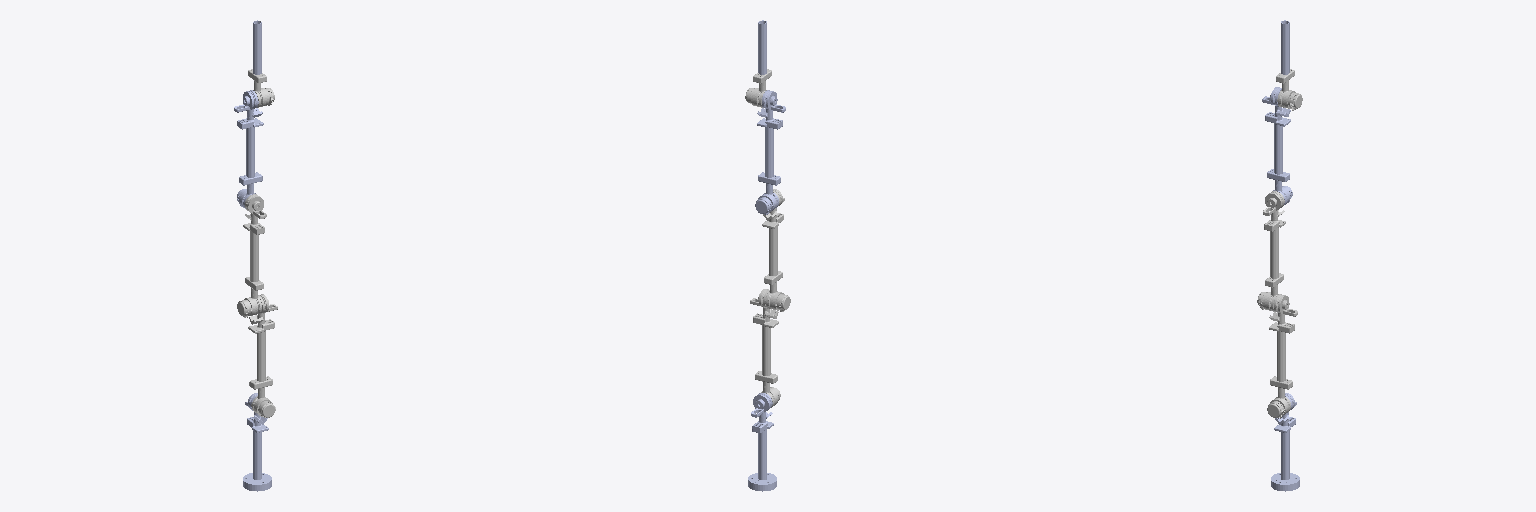
The robot description file, URDF, robot "out":
<robot
  name="out">
  <link
    name="base_link">
    <inertial>
      <origin
        xyz="3.79257737839755E-07 0.00049023117359942 0.0680911715687366"
        rpy="0 0 0" />
      <mass
        value="0.0392655917096764" />
      <inertia
        ixx="9.43403386038929E-05"
        ixy="-1.44006322333817E-10"
        ixz="-5.29248920453766E-10"
        iyy="9.35097580449183E-05"
        iyz="-7.06817719911823E-07"
        izz="4.67523611268744E-06" />
    </inertial>
    <visual>
      <origin
        xyz="0 0 0"
        rpy="0 0 0" />
      <geometry>
        <mesh
          filename="package://out/meshes/base_link.STL" />
      </geometry>
      <material
        name="">
        <color
          rgba="0.792156862745098 0.819607843137255 0.933333333333333 1" />
      </material>
    </visual>
    <collision>
      <origin
        xyz="0 0 0"
        rpy="0 0 0" />
      <geometry>
        <mesh
          filename="package://out/meshes/base_link.STL" />
      </geometry>
    </collision>
  </link>
  <link
    name="l1">
    <inertial>
      <origin
        xyz="-0.0775363356888588 0.000422756793977339 0.020971922442065"
        rpy="0 0 0" />
      <mass
        value="0.0481140132679658" />
      <inertia
        ixx="4.25376229510674E-06"
        ixy="9.89720298124224E-07"
        ixz="-3.669914865259E-06"
        iyy="0.000166336706495787"
        iyz="6.60230724636582E-09"
        izz="0.000167508840093891" />
    </inertial>
    <visual>
      <origin
        xyz="0 0 0"
        rpy="0 0 0" />
      <geometry>
        <mesh
          filename="package://out/meshes/l1.STL" />
      </geometry>
      <material
        name="">
        <color
          rgba="0.847058823529412 0.847058823529412 0.847058823529412 1" />
      </material>
    </visual>
    <collision>
      <origin
        xyz="0 0 0"
        rpy="0 0 0" />
      <geometry>
        <mesh
          filename="package://out/meshes/l1.STL" />
      </geometry>
    </collision>
  </link>
  <joint
    name="j1"
    type="fixed">
    <origin
      xyz="0 0.0094896 0.1243"
      rpy="1.5708 1.5708 0" />
    <parent
      link="base_link" />
    <child
      link="l1" />
    <axis
      xyz="0 0 1" />
  </joint>
  <link
    name="l2">
    <inertial>
      <origin
        xyz="-0.0775266421097146 0.000406987130815606 0.0209719226551794"
        rpy="0 0 0" />
      <mass
        value="0.048114013091611" />
      <inertia
        ixx="4.24702973489523E-06"
        ixy="1.0510679756802E-06"
        ixz="-3.67698119293869E-06"
        iyy="0.000166415860643582"
        iyz="1.81256684874285E-08"
        izz="0.000167581262863039" />
    </inertial>
    <visual>
      <origin
        xyz="0 0 0"
        rpy="0 0 0" />
      <geometry>
        <mesh
          filename="package://out/meshes/l2.STL" />
      </geometry>
      <material
        name="">
        <color
          rgba="0.847058823529412 0.847058823529412 0.847058823529412 1" />
      </material>
    </visual>
    <collision>
      <origin
        xyz="0 0 0"
        rpy="0 0 0" />
      <geometry>
        <mesh
          filename="package://out/meshes/l2.STL" />
      </geometry>
    </collision>
  </link>
  <joint
    name="j2"
    type="fixed">
    <origin
      xyz="-0.1524 0.0094896 0.01999"
      rpy="1.5708 6.813E-18 4.5838E-17" />
    <parent
      link="l1" />
    <child
      link="l2" />
    <axis
      xyz="0 0 -1" />
  </joint>
  <link
    name="l3">
    <inertial>
      <origin
        xyz="0.0775266363214682 -0.000406452303621508 0.0209719515362998"
        rpy="0 0 0" />
      <mass
        value="0.0481140130743189" />
      <inertia
        ixx="4.24699051210553E-06"
        ixy="1.05330102905972E-06"
        ixz="3.6768898544654E-06"
        iyy="0.00016641680669748"
        iyz="-1.85466771433332E-08"
        izz="0.000167582176419347" />
    </inertial>
    <visual>
      <origin
        xyz="0 0 0"
        rpy="0 0 0" />
      <geometry>
        <mesh
          filename="package://out/meshes/l3.STL" />
      </geometry>
      <material
        name="">
        <color
          rgba="0.792156862745098 0.819607843137255 0.933333333333333 1" />
      </material>
    </visual>
    <collision>
      <origin
        xyz="0 0 0"
        rpy="0 0 0" />
      <geometry>
        <mesh
          filename="package://out/meshes/l3.STL" />
      </geometry>
    </collision>
  </link>
  <joint
    name="j3"
    type="fixed">
    <origin
      xyz="-0.1524 0.0094896 0.01999"
      rpy="-1.5708 4.5838E-17 3.1416" />
    <parent
      link="l2" />
    <child
      link="l3" />
    <axis
      xyz="0 0 -1" />
  </joint>
  <link
    name="l4">
    <inertial>
      <origin
        xyz="-0.0186830493415796 -6.20813135235598E-05 0.022135458347231"
        rpy="0 0 0" />
      <mass
        value="0.0220182823322274" />
      <inertia
        ixx="1.98116592302733E-06"
        ixy="1.08305327617502E-08"
        ixz="-8.92033835283854E-07"
        iyy="8.70461098190496E-06"
        iyz="8.6473479857877E-09"
        izz="9.07949191695857E-06" />
    </inertial>
    <visual>
      <origin
        xyz="0 0 0"
        rpy="0 0 0" />
      <geometry>
        <mesh
          filename="package://out/meshes/l4.STL" />
      </geometry>
      <material
        name="">
        <color
          rgba="0.847058823529412 0.847058823529412 0.847058823529412 1" />
      </material>
    </visual>
    <collision>
      <origin
        xyz="0 0 0"
        rpy="0 0 0" />
      <geometry>
        <mesh
          filename="package://out/meshes/l4.STL" />
      </geometry>
    </collision>
  </link>
  <joint
    name="j4"
    type="fixed">
    <origin
      xyz="0.1524 -0.0094896 0.01999"
      rpy="1.5708 9.2709E-16 3.1416" />
    <parent
      link="l3" />
    <child
      link="l4" />
    <axis
      xyz="0 0 1" />
  </joint>
  <link
    name="l5">
    <inertial>
      <origin
        xyz="-0.0762000000004666 1.17961196366423E-16 0.0199896000000001"
        rpy="0 0 0" />
      <mass
        value="0.00263328296223896" />
      <inertia
        ixx="8.03151303482884E-08"
        ixy="8.94418173979679E-22"
        ixz="2.14569496371279E-22"
        iyy="1.31432419211271E-06"
        iyz="6.80873041709125E-25"
        izz="1.31432419211271E-06" />
    </inertial>
    <visual>
      <origin
        xyz="0 0 0"
        rpy="0 0 0" />
      <geometry>
        <mesh
          filename="package://out/meshes/l5.STL" />
      </geometry>
      <material
        name="">
        <color
          rgba="0.792156862745098 0.819607843137255 0.933333333333333 1" />
      </material>
    </visual>
    <collision>
      <origin
        xyz="0 0 0"
        rpy="0 0 0" />
      <geometry>
        <mesh
          filename="package://out/meshes/l5.STL" />
      </geometry>
    </collision>
  </link>
  <joint
    name="g5"
    type="fixed">
    <origin
      xyz="0 0 0"
      rpy="0 0 0" />
    <parent
      link="l4" />
    <child
      link="l5" />
    <axis
      xyz="0 0 0" />
  </joint>
</robot>

--- Facts derived from the render (not from the file) ---
The picture shows the robot from 3 angles, left to right: view 1: azimuth 30°, elevation 25°; view 2: azimuth 150°, elevation 25°; view 3: azimuth 330°, elevation 25°; orthographic projection.
Model out with 6 links and 5 joints (5 fixed), rooted at base_link, posed all joints at 0.
Visible links, largest first — view 1: l2, l1, l3, base_link; view 2: l3, base_link, l2, l1; view 3: l1, l2, l3, base_link, l4.
Boxes of the visible links, <box> form: l2: <box>237,194,266,317</box>; l1: <box>248,294,277,417</box>; l3: <box>234,90,263,208</box>; base_link: <box>243,393,271,491</box>; l3: <box>755,90,785,214</box>; base_link: <box>748,393,776,491</box>; l2: <box>762,189,790,311</box>; l1: <box>750,289,780,407</box>; l1: <box>1267,294,1297,418</box>; l2: <box>1257,191,1285,311</box>; l3: <box>1262,87,1292,204</box>; base_link: <box>1271,393,1299,491</box>; l4: <box>1276,69,1302,110</box>.
Bounding box of the posed robot: 0.0586 × 0.0586 × 0.6958 m (x, y, z).
Meshes: 6 distinct files referenced, 6 mesh visuals loaded (6 binary STL).
